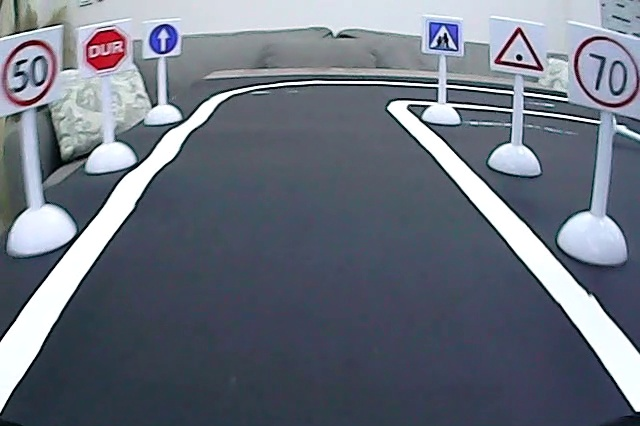green light: (490, 22, 547, 75)
school crossing: (425, 20, 462, 56)
speed limit 50: (1, 36, 59, 110)
speed limit 70: (571, 32, 640, 110)
stop sign: (82, 24, 131, 78)
